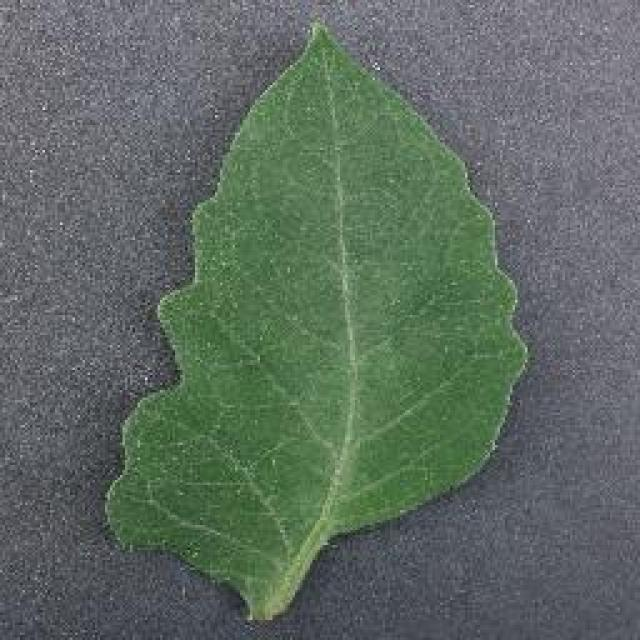Tomato_Healthy: (63, 16, 554, 578)
